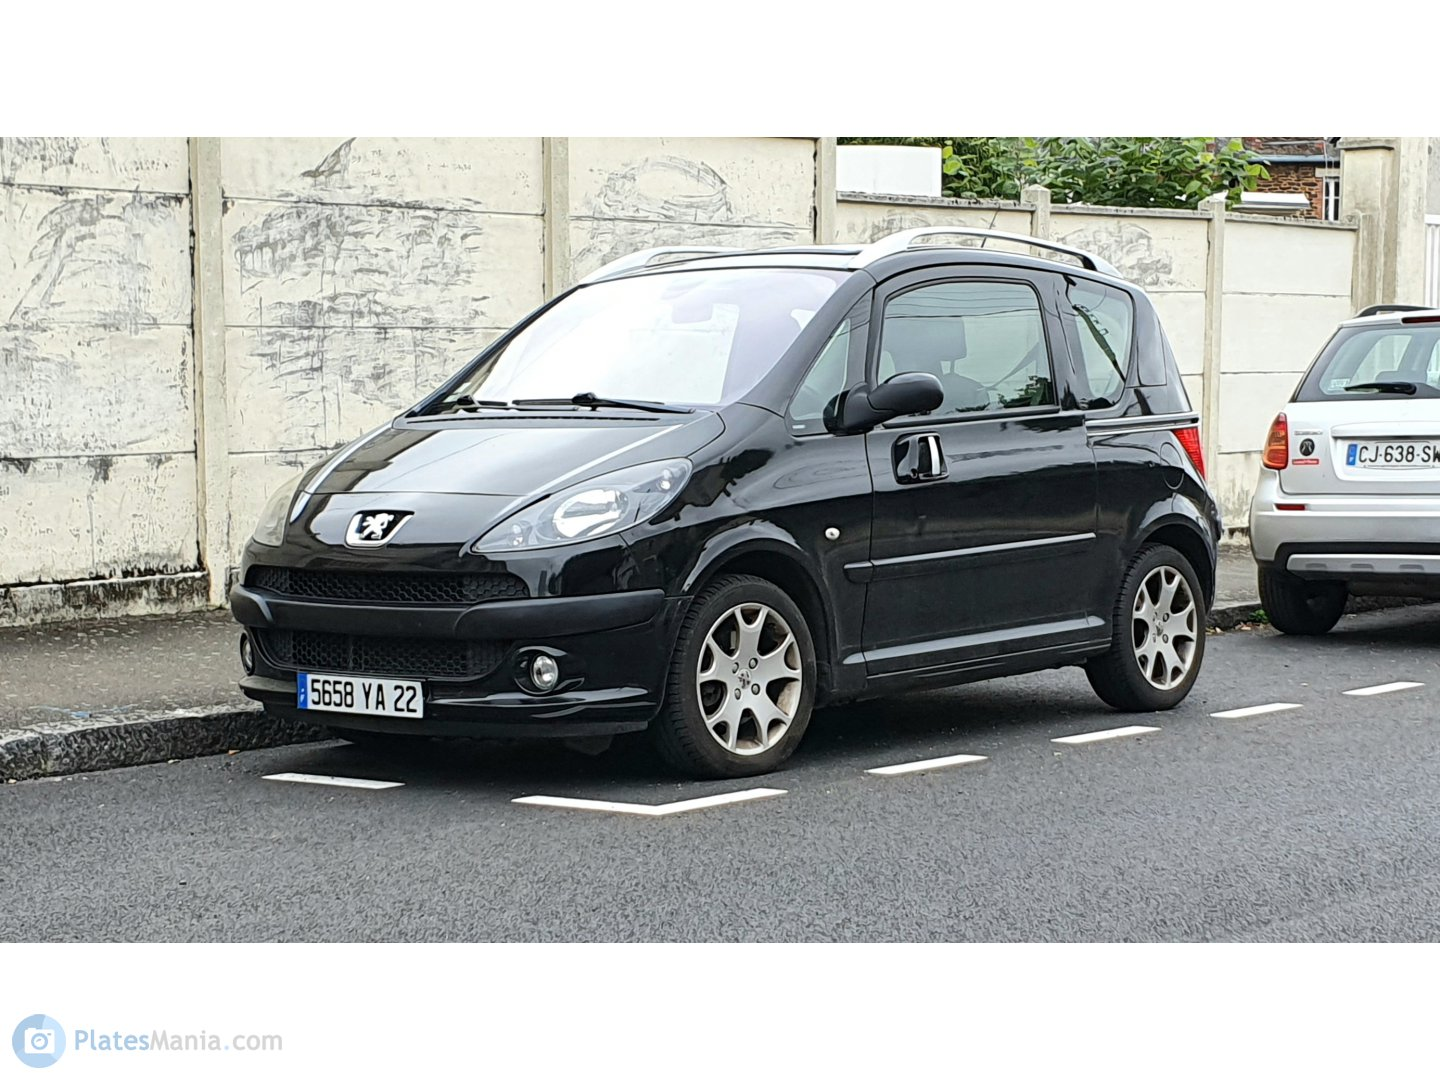licence plate: (293, 669, 432, 722)
